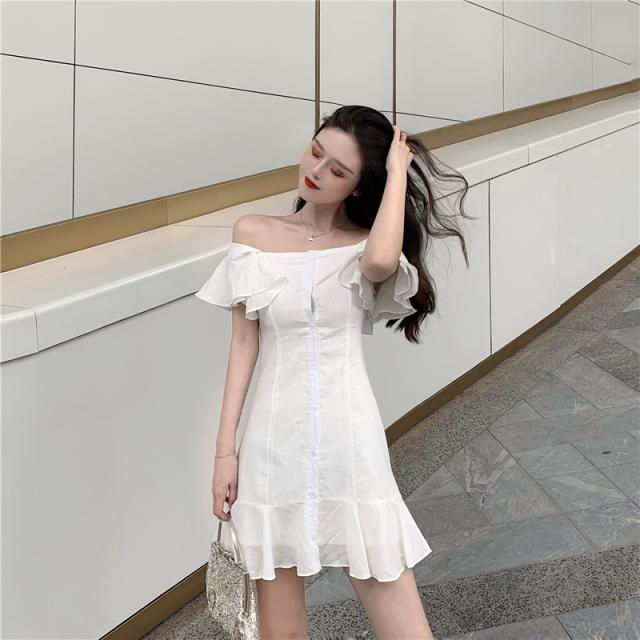clothes: (204, 218, 438, 592)
